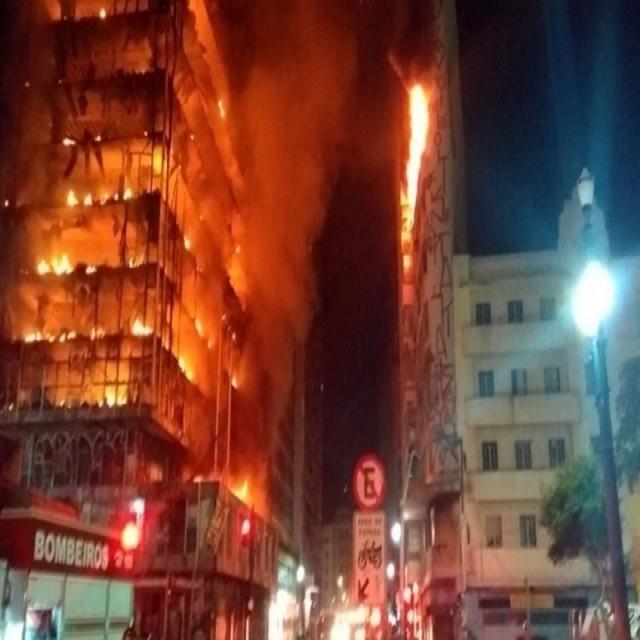Fire: (27, 8, 230, 412), (402, 86, 429, 272)
Smoke: (247, 0, 352, 298)
